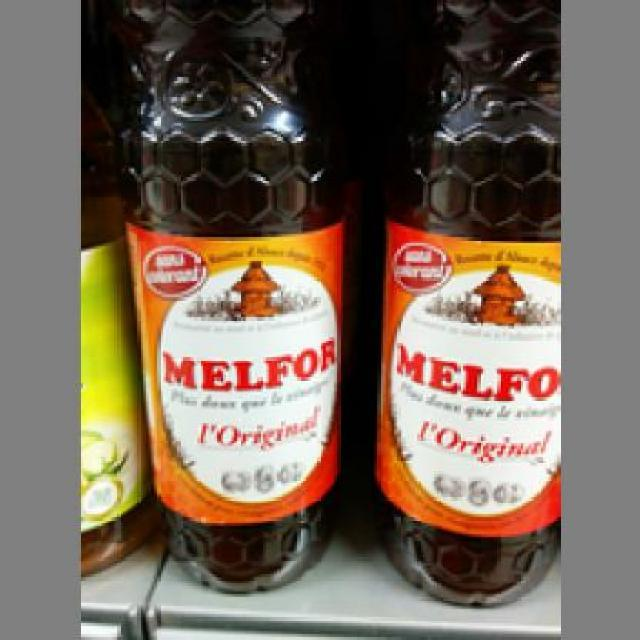Vinegar: (106, 0, 354, 597), (367, 0, 558, 612)
